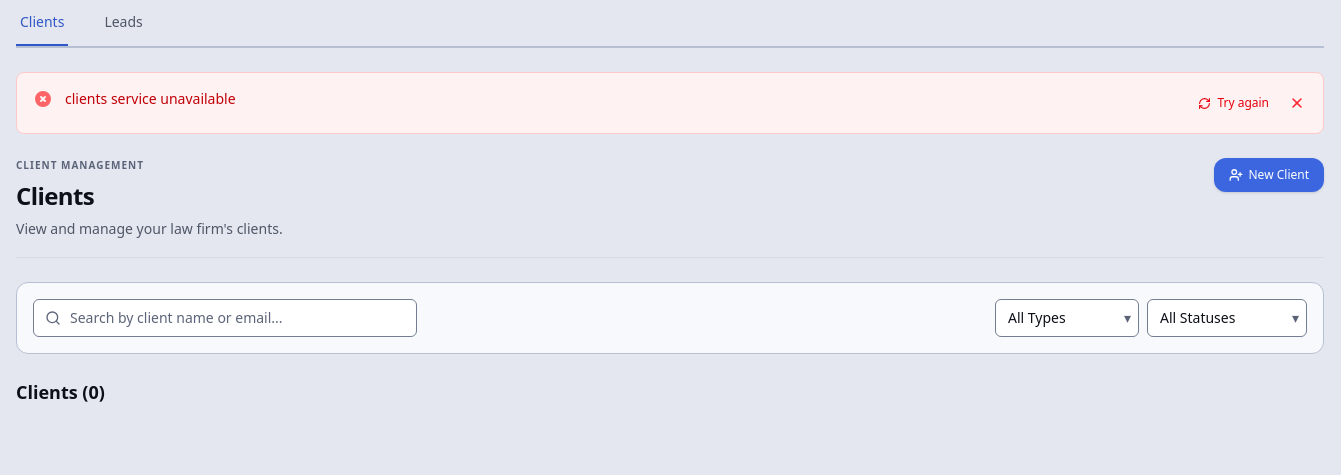
Test: an API failure, with retry › recovers the real list once the retry succeeds
Click the button "Try again": (1234, 103) [1190,89,1277,117]
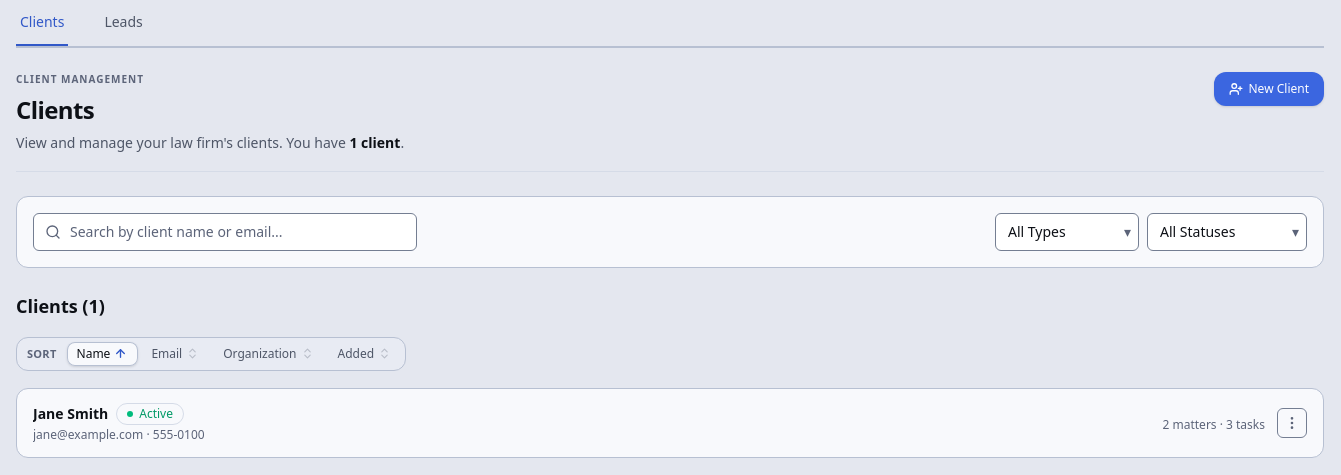
Result: the message "clients service unavailable Try again" is gone
Result: the text "Jane Smith" is shown at [33,404,108,424]
